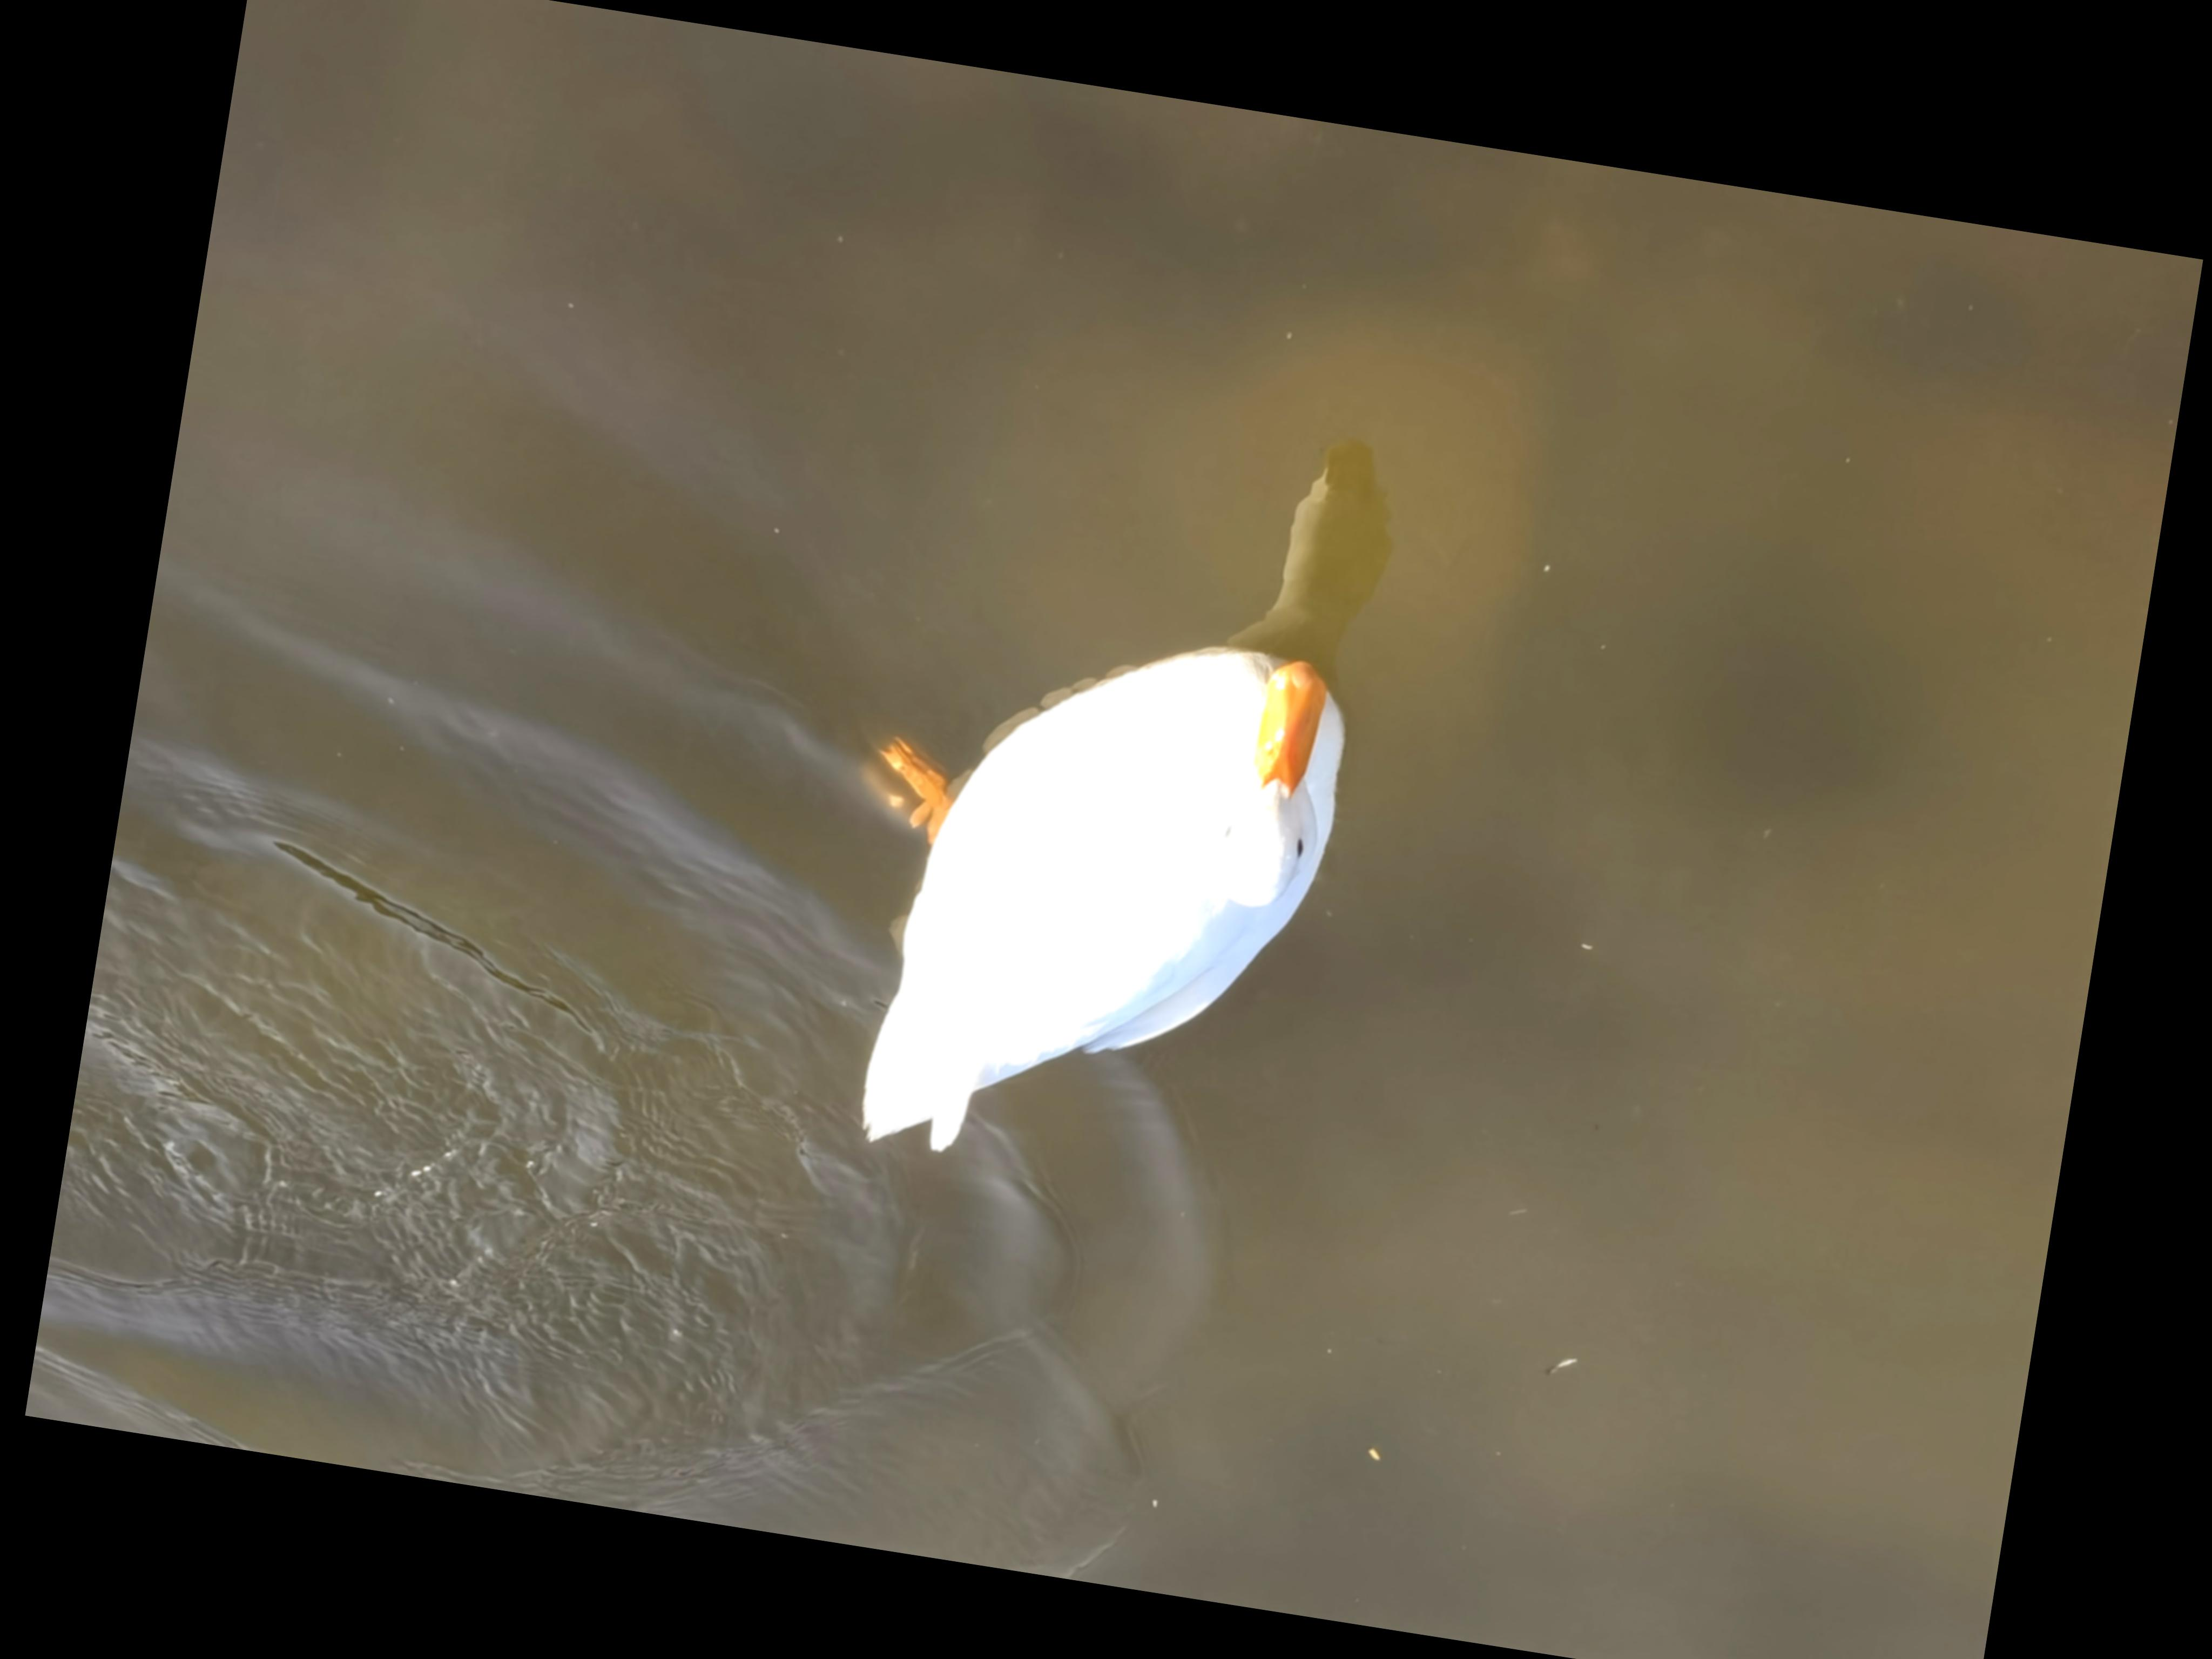duck: (780, 573, 1388, 1237)
